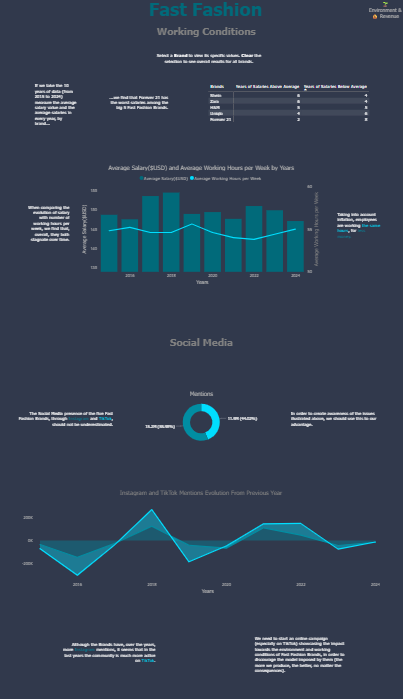

The page's visual inventory and layout, read from the dashboard file:
{"tool":"powerbi","page":{"name":"👷 Working Conditions and📱 Social Media Dashboard","canvas":[1080,1920],"ordinal":1},"visuals":[{"type":"textbox","box":[10,0,968.9,85.6],"z":0},{"type":"textbox","box":[10,73.8,1070,46.2],"z":1000},{"type":"textbox","box":[0,904,1080,56],"z":2000},{"type":"lineStackedColumnComboChart","fields":{"Category":["public three_salaries.year"],"Y2":["Avg(public three_working_hours.avg_working_hours_per_week)"],"Y":["Avg(public three_salaries.avg_salary_usd)"]},"box":[216.7,445.3,645,330],"z":3000},{"type":"textbox","box":[66.7,548.7,126.7,125],"z":4000},{"type":"pivotTable","fields":{"Rows":["public three_salaries_ranking.brand"],"Values":["Sum(public three_salaries_ranking.salaries_above_average)","Sum(public three_salaries_ranking.salaries_below_average)"]},"box":[552.6,225.3,460,121.7],"z":5000},{"type":"textbox","box":[88.8,225,125,141.2],"z":6000},{"type":"textbox","box":[406.7,146.7,306.7,46.7],"z":7000},{"type":"textbox","box":[280.9,257,176.7,61.7],"z":8000},{"type":"donutChart","title":"Mentions","fields":{"Y":["Sum(public four_social_evolution.tiktok_mentions)","Sum(public four_social_evolution.instagram_mentions)"]},"box":[323.3,1051.3,432.2,154.4],"z":12000},{"type":"textbox","box":[773.8,1099.9,262.5,57.5],"z":13000},{"type":"stackedAreaChart","title":"Instagram and TikTok Mentions Evolution From Previous Year","fields":{"Category":["public four_social_evolution.year"],"Y":["Sum(public four_social_evolution.instagram_mentions_evolution)","Sum(public four_social_evolution.tiktok_mentions_evolution)"]},"box":[58,1314,964,286],"z":14000},{"type":"textbox","box":[46.2,1099.9,262.5,68.8],"z":15000},{"type":"textbox","box":[160,1717.1,262.9,82.9],"z":16000},{"type":"textbox","box":[677.5,1700,263.8,118.8],"z":17000},{"type":"actionButton","box":[980,0,100,73.3],"z":17001},{"type":"textbox","box":[896.7,570.3,126.7,81.7],"z":17002}]}

Visuals, with their boxes in screenshot pixels (x1, y1, x2, y2), scaled from the page's 1080x1920 canvas onto the 403x699 screenshot:
textbox: pyautogui.locateOnScreen(4, 0, 365, 31)
textbox: pyautogui.locateOnScreen(4, 27, 402, 44)
textbox: pyautogui.locateOnScreen(0, 329, 402, 350)
lineStackedColumnComboChart - public three_salaries.year x Avg(public three_working_hours.avg_working_hours_per_week): pyautogui.locateOnScreen(81, 162, 322, 282)
textbox: pyautogui.locateOnScreen(25, 200, 72, 245)
pivotTable - public three_salaries_ranking.brand x Sum(public three_salaries_ranking.salaries_above_average): pyautogui.locateOnScreen(206, 82, 378, 126)
textbox: pyautogui.locateOnScreen(33, 82, 80, 133)
textbox: pyautogui.locateOnScreen(152, 53, 266, 70)
textbox: pyautogui.locateOnScreen(105, 94, 171, 116)
"Mentions" donutChart: pyautogui.locateOnScreen(121, 383, 282, 439)
textbox: pyautogui.locateOnScreen(289, 400, 387, 421)
"Instagram and TikTok Mentions Evolution From Previous Year" stackedAreaChart: pyautogui.locateOnScreen(22, 478, 381, 582)
textbox: pyautogui.locateOnScreen(17, 400, 115, 425)
textbox: pyautogui.locateOnScreen(60, 625, 158, 655)
textbox: pyautogui.locateOnScreen(253, 619, 351, 662)
actionButton: pyautogui.locateOnScreen(366, 0, 402, 27)
textbox: pyautogui.locateOnScreen(335, 208, 382, 237)
